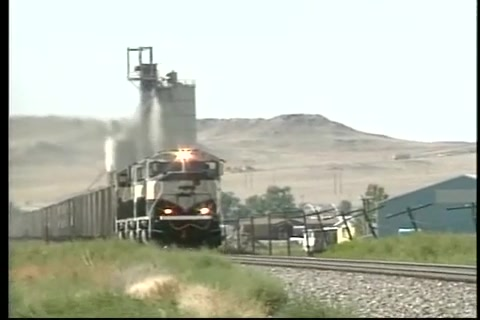train: (20, 145, 228, 252)
